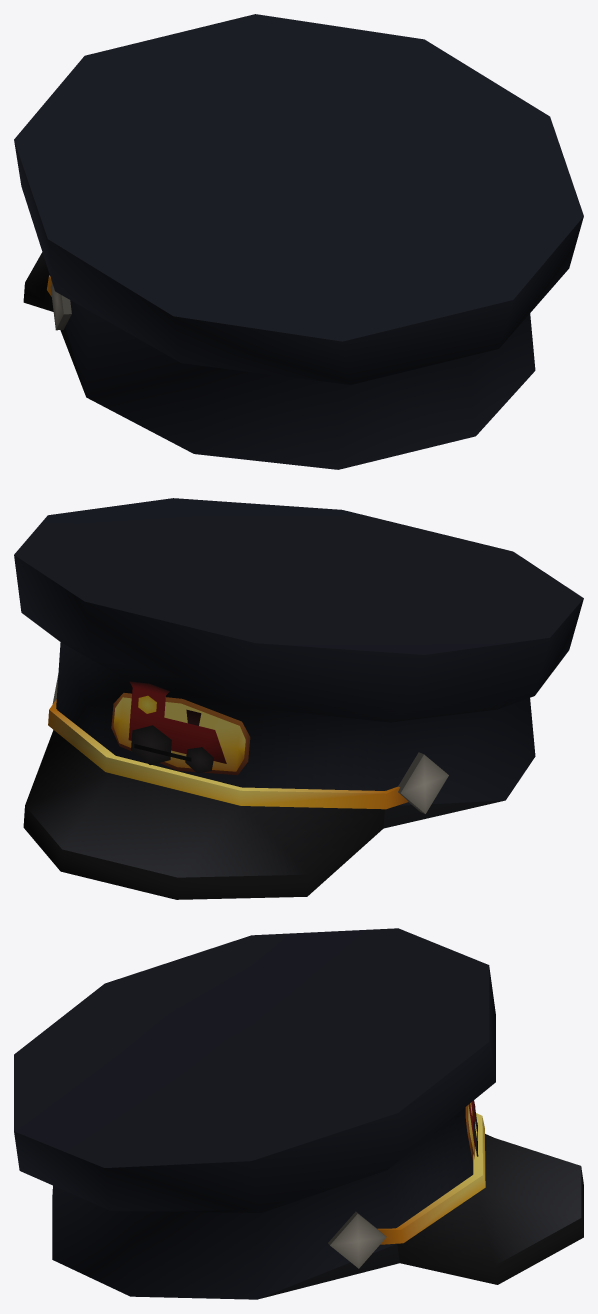
File: hat_conductor.glb
3 renders of one model, top to bottom at view 1: azimuth 30°, elevation 25°; view 2: azimuth 150°, elevation 25°; view 3: azimuth 270°, elevation 25°, orthographic. The views are drawn at different scales.
Visible parts, largest first — view 1: hat_conductor; view 2: hat_conductor; view 3: hat_conductor.
Boxes of the visible parts, x1,y1,x2,y2 form: hat_conductor: (14,14,583,469); hat_conductor: (14,498,583,899); hat_conductor: (14,928,583,1299).
Bounding box in the file's own units: 0.4576 × 0.213 × 0.4882.
